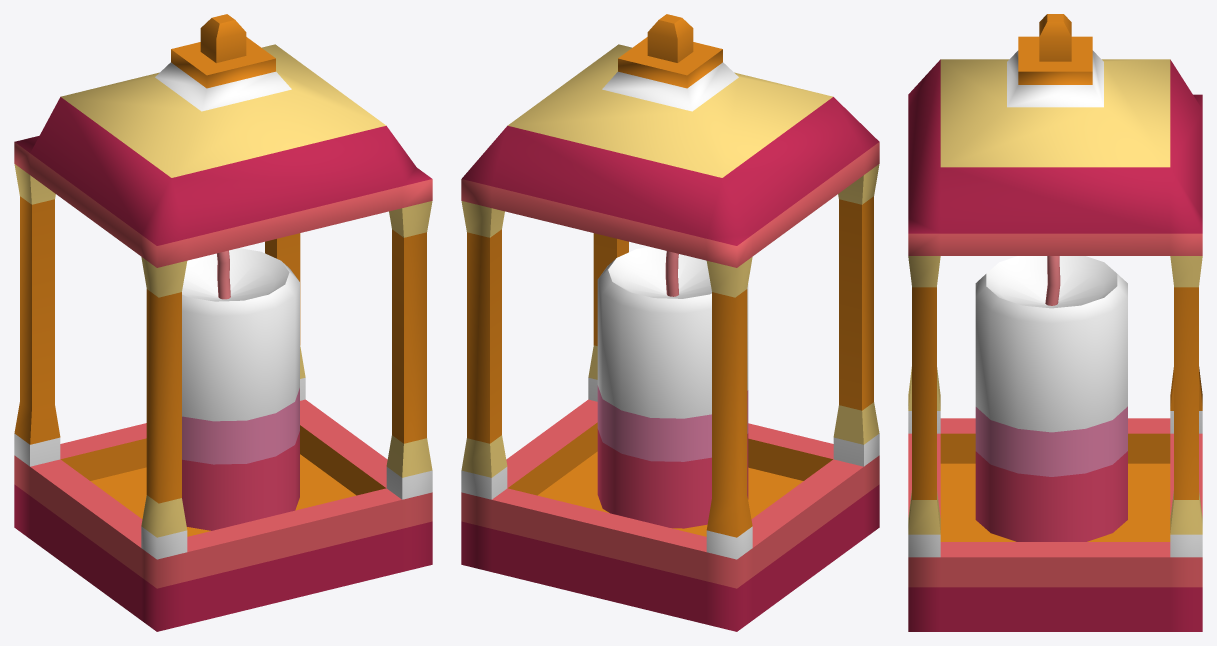
File: Chotbol1-1.fbx
The picture shows the model from 3 angles, left to right: view 1: azimuth 30°, elevation 25°; view 2: azimuth 150°, elevation 25°; view 3: azimuth 270°, elevation 25°; orthographic projection. The views are drawn at different scales.
Parts seen in each view (by area): view 1: Chotbol1-1; view 2: Chotbol1-1; view 3: Chotbol1-1.
Part boxes in pixels (x1=…): Chotbol1-1: x1=14, y1=14, x2=432, y2=631; Chotbol1-1: x1=461, y1=14, x2=879, y2=631; Chotbol1-1: x1=908, y1=14, x2=1202, y2=631.
Bounding box in the file's own units: 0.3361 × 0.6147 × 0.3012.
